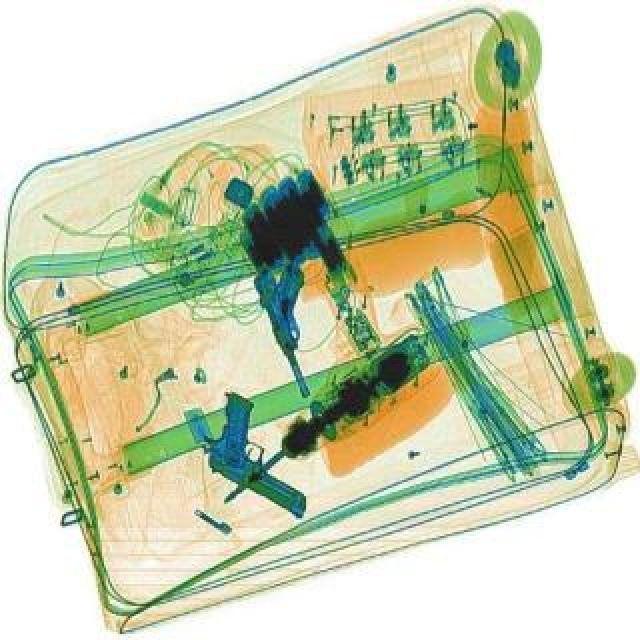gun: (186, 382, 346, 516), (246, 258, 346, 400)
